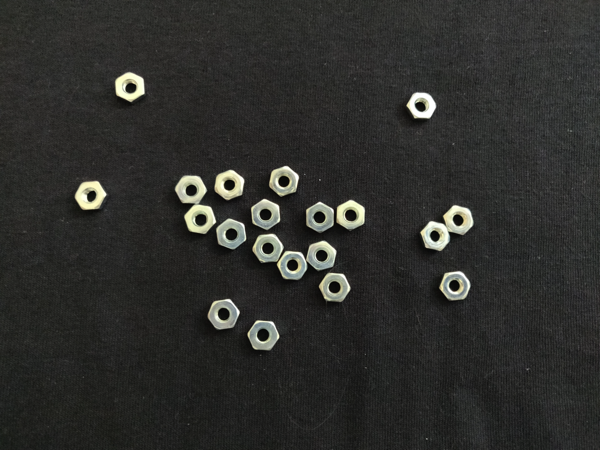nut: (213, 168, 246, 203), (74, 180, 111, 211), (437, 271, 474, 302), (114, 72, 147, 106), (442, 205, 476, 238), (207, 299, 242, 331), (184, 203, 217, 235), (173, 175, 208, 205), (268, 165, 300, 197), (250, 198, 281, 231), (248, 320, 281, 351), (419, 221, 452, 252), (336, 200, 367, 232), (216, 218, 247, 250), (406, 92, 438, 123), (252, 234, 285, 264), (306, 201, 336, 233), (277, 251, 309, 281), (307, 241, 337, 272), (319, 274, 351, 303)
